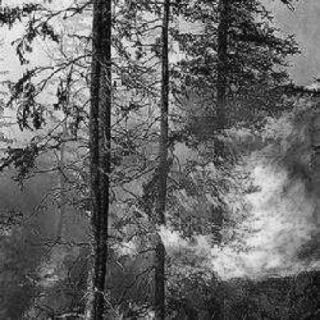Fire: (2, 226, 154, 316)
